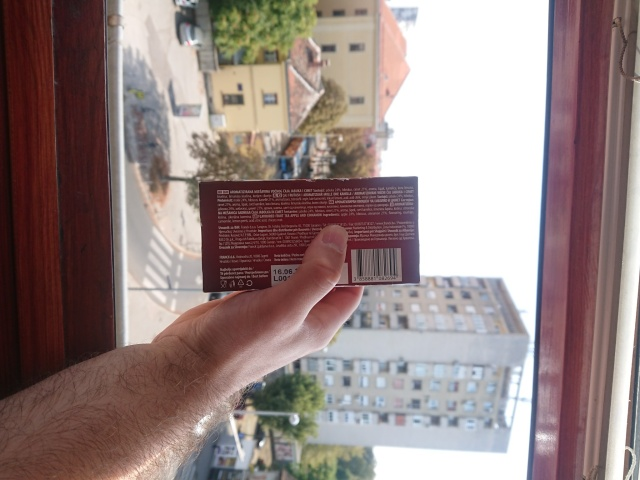Franck Apple Cinnamon Tea 60g: (197, 173, 423, 295)
